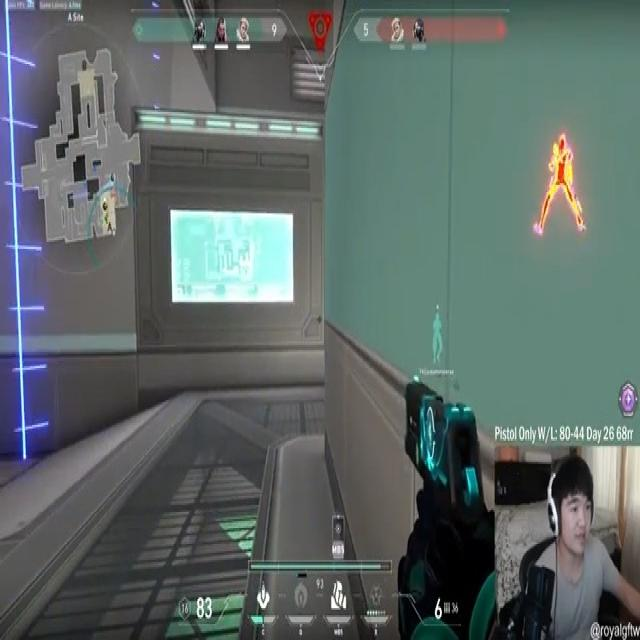ally behind wall: (432, 304, 445, 368)
enemy behind wall: (531, 129, 590, 245)
